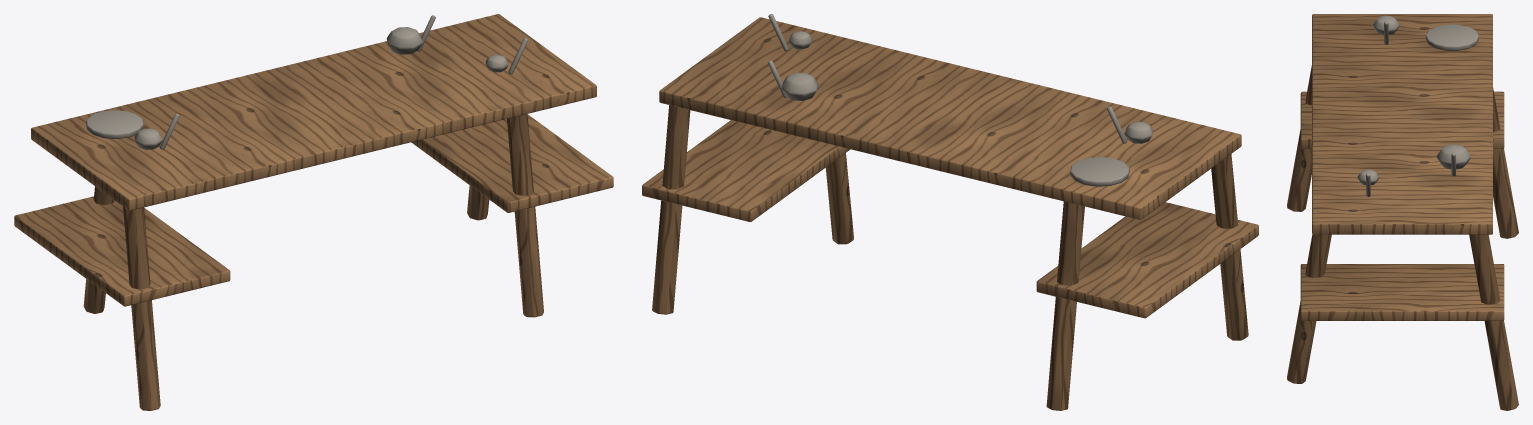
The model's file is trestle_metal.glb.
The picture shows the model from 3 angles, left to right: view 1: azimuth 30°, elevation 25°; view 2: azimuth 150°, elevation 25°; view 3: azimuth 270°, elevation 25°; orthographic projection. The views are drawn at different scales.
Visible parts, largest first — view 1: trestle_metal; view 2: trestle_metal; view 3: trestle_metal.
Part boxes in pixels (x1=…): trestle_metal: x1=14, y1=14, x2=613, y2=410; trestle_metal: x1=642, y1=14, x2=1258, y2=410; trestle_metal: x1=1287, y1=14, x2=1518, y2=410.
Bounding box in the file's own units: 2.3 × 1.08 × 1.02.
Materials: 2 (1 with a texture image).
